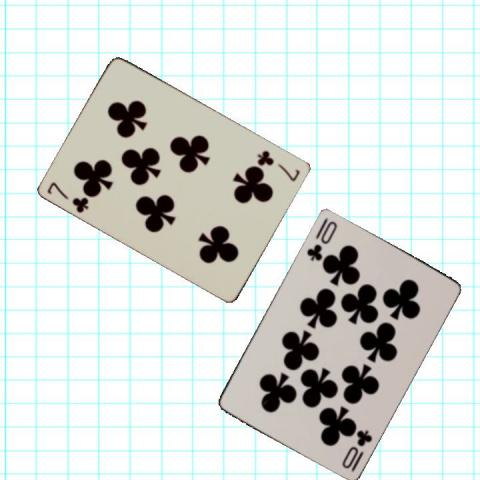10c: (303, 214, 339, 262), (339, 426, 374, 472)
7c: (255, 146, 302, 182), (44, 178, 91, 214)
